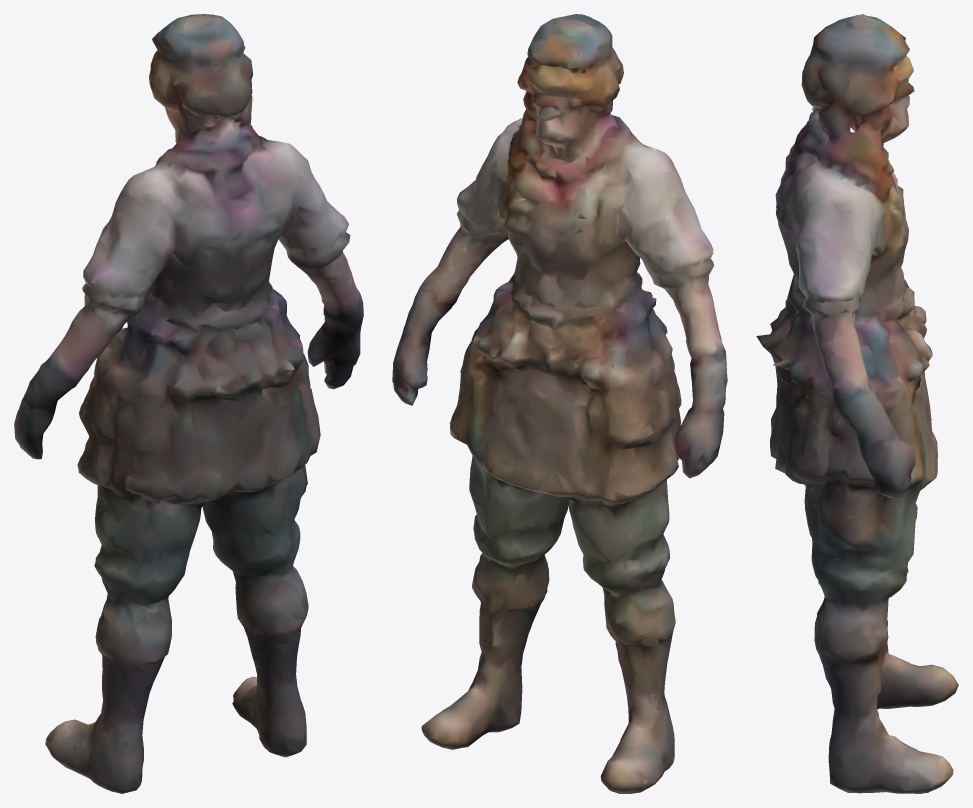
The model's file is npc_06_artesa.glb.
3 renders of one model, left to right at view 1: azimuth 30°, elevation 25°; view 2: azimuth 150°, elevation 25°; view 3: azimuth 270°, elevation 25°, orthographic. The views are drawn at different scales.
Size of the model in its own units: 0.4687 by 1.01 by 0.254.
